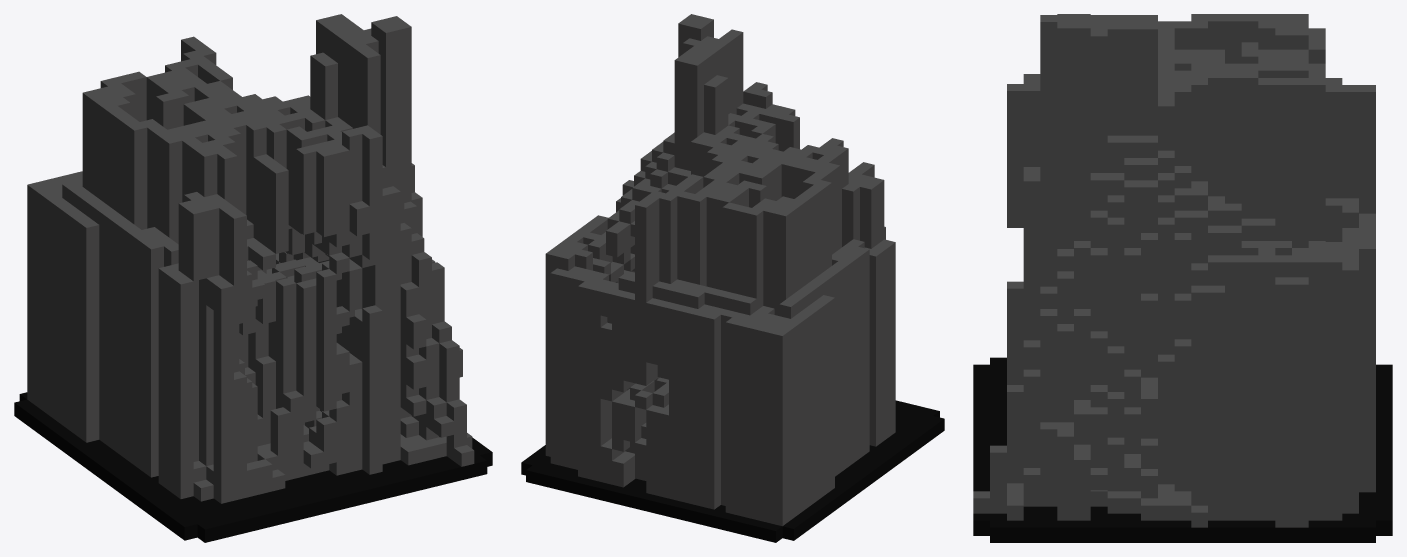
Rendered from Mountain.gltf.
3 views of the same model, side by side, from view 1: azimuth 30°, elevation 25°; view 2: azimuth 150°, elevation 25°; view 3: azimuth 270°, elevation 25° (orthographic). The views are drawn at different scales.
Parts seen in each view (by area): view 1: Layer.2, Layer.1; view 2: Layer.2, Layer.1; view 3: Layer.2, Layer.1.
Part boxes in pixels (x1,y1,x2,y2): Layer.2: (27, 14, 474, 503); Layer.1: (14, 392, 492, 542); Layer.2: (545, 14, 895, 526); Layer.1: (521, 400, 944, 542); Layer.2: (973, 14, 1375, 527); Layer.1: (973, 357, 1392, 542).
Size of the model in its own units: 24 by 32 by 25.
Materials: 1 (1 with a texture image).
